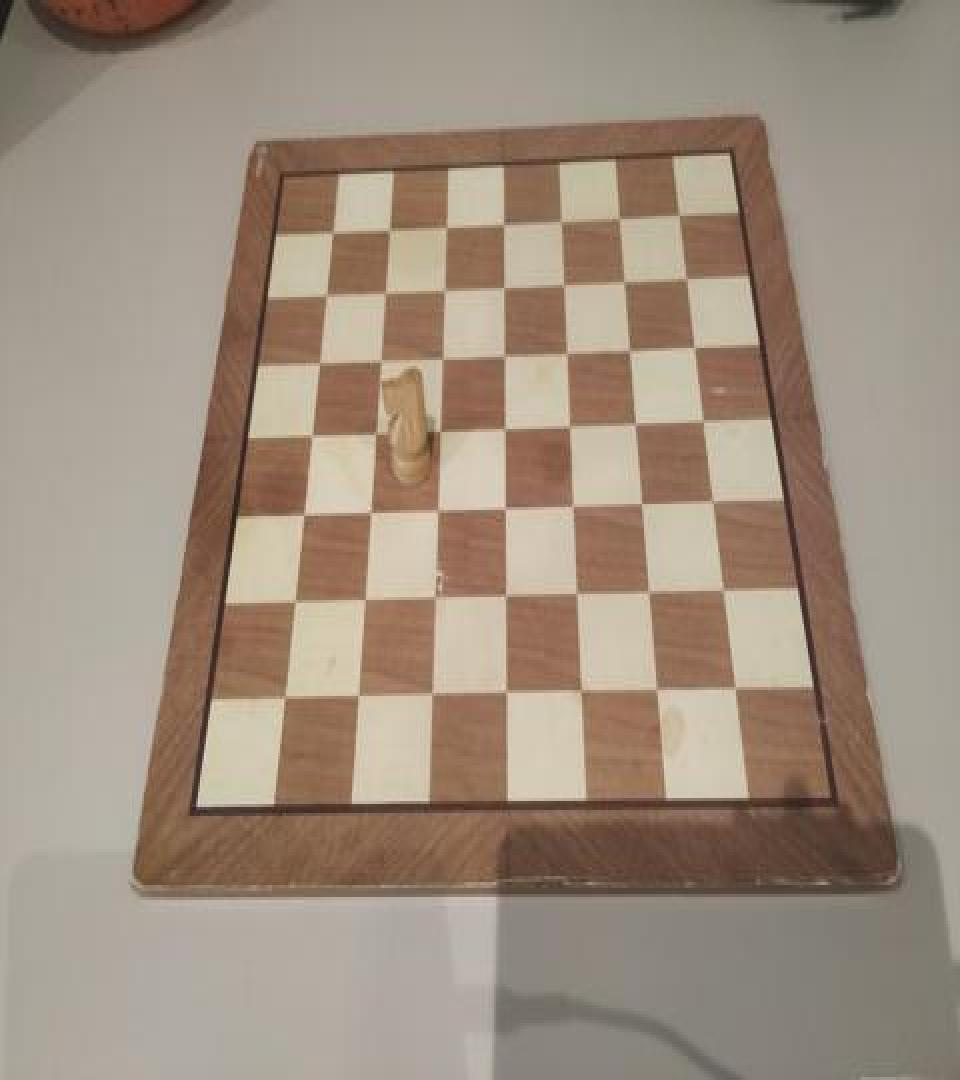xcorner: (344, 681, 364, 711), (419, 680, 439, 710), (494, 680, 514, 710), (570, 678, 590, 708), (647, 676, 667, 706), (724, 675, 744, 705), (281, 585, 301, 615), (352, 584, 372, 614), (423, 582, 443, 612), (566, 579, 586, 609), (639, 578, 659, 608), (713, 576, 733, 606), (291, 496, 311, 526), (358, 495, 378, 525), (426, 494, 446, 524), (494, 492, 514, 522), (563, 490, 583, 520), (632, 488, 652, 518), (702, 486, 722, 516), (300, 417, 320, 447), (365, 416, 385, 446), (429, 412, 449, 442), (494, 411, 514, 441), (560, 410, 580, 440), (626, 406, 646, 436), (693, 405, 713, 435), (309, 344, 329, 374), (370, 342, 390, 372), (432, 339, 452, 369), (495, 338, 515, 368), (557, 334, 577, 364), (620, 333, 640, 363), (684, 332, 704, 362), (316, 276, 336, 306), (375, 274, 395, 304), (435, 272, 455, 302), (495, 270, 515, 300), (555, 267, 575, 297), (615, 266, 635, 296), (676, 262, 696, 292), (324, 214, 344, 244), (380, 212, 400, 242), (437, 210, 457, 240), (495, 207, 515, 237), (552, 206, 572, 236), (610, 202, 630, 232), (669, 201, 689, 231), (270, 683, 290, 712), (494, 581, 514, 610)
